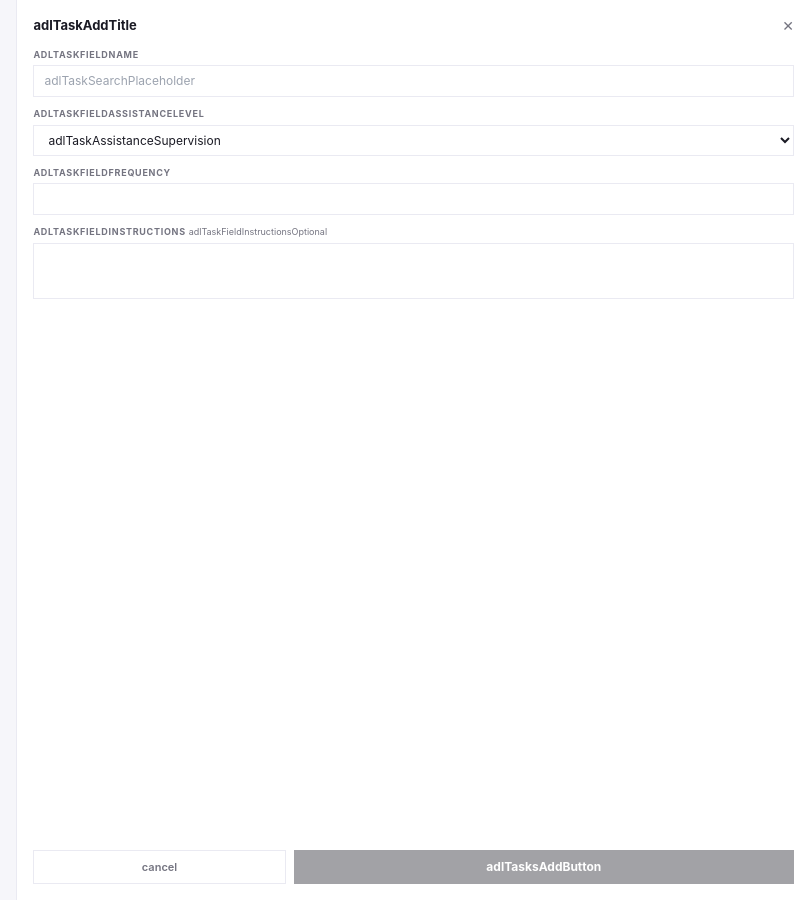
Scenario: AddTaskPanel › accepts custom task name not in template list
Type "Custom therapy task" into the field with placeholder "adlTaskSearchPlaceholder". click: (414, 81)
box: x1=33 y1=65 x2=794 y2=97
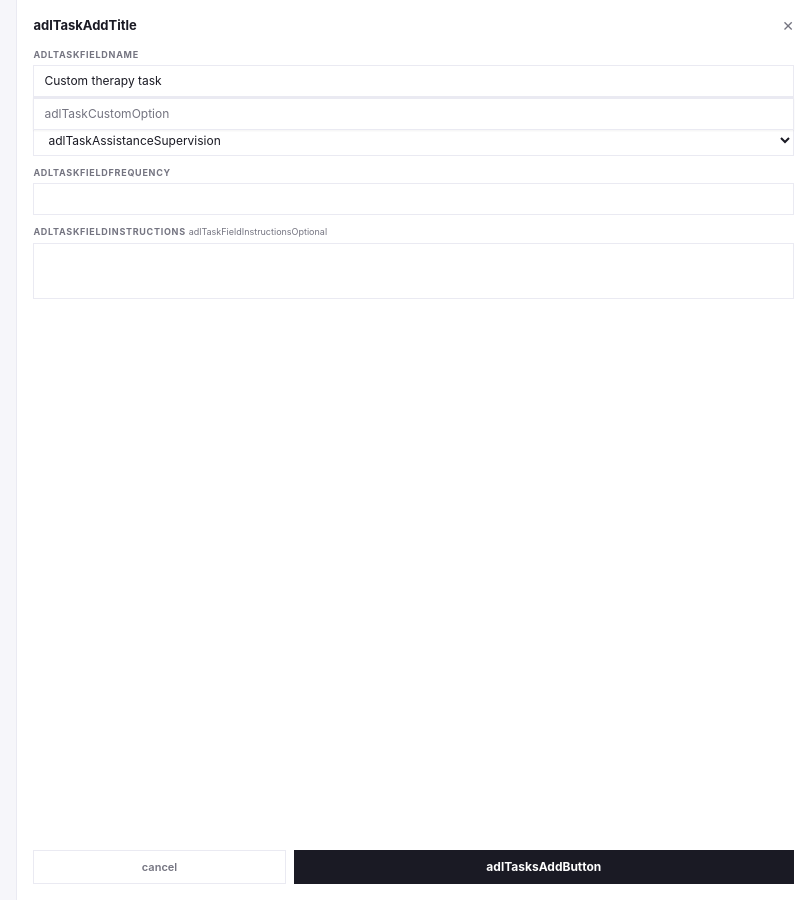
Result: the button "adlTaskCustomOption" is shown at x1=34 y1=98 x2=793 y2=129
